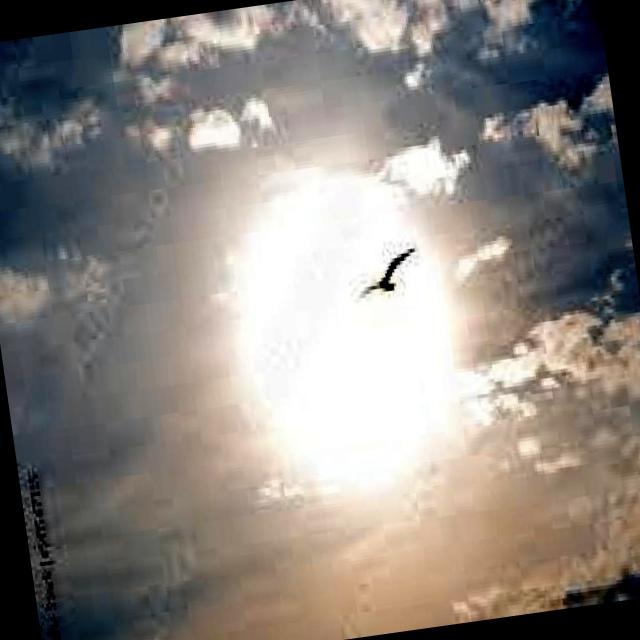bird: (355, 244, 426, 304)
